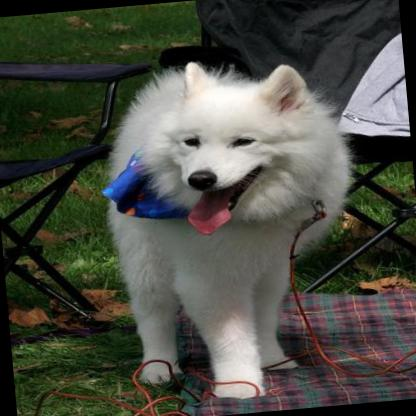Samoyed: (93, 47, 370, 409)
